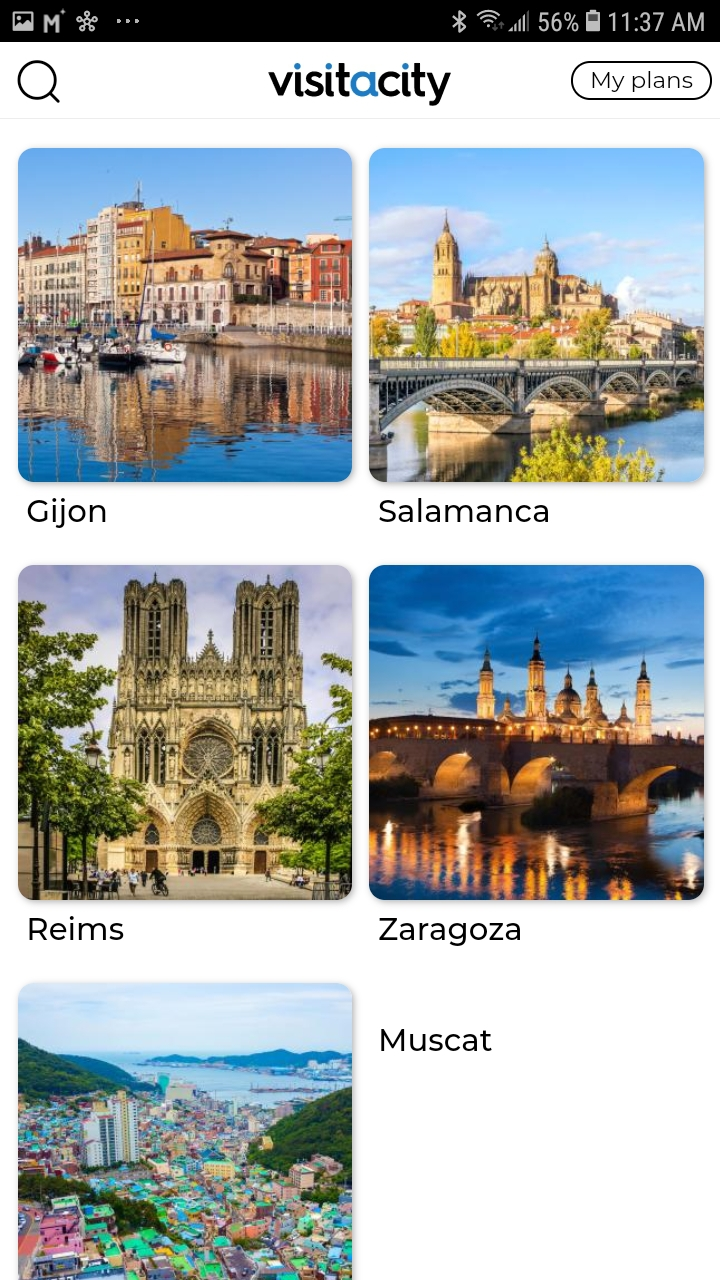Icon: (18, 60, 62, 104)
Image: (369, 565, 704, 901), (19, 566, 353, 901), (369, 149, 704, 483), (19, 148, 353, 483), (19, 983, 353, 1280), (268, 64, 452, 108)
Text: (379, 497, 549, 523), (379, 917, 521, 947), (381, 1029, 493, 1052), (28, 498, 107, 529), (30, 916, 125, 941)
TextButton: (570, 61, 712, 101)
UpperTaskBar: (1, 1, 720, 43)
